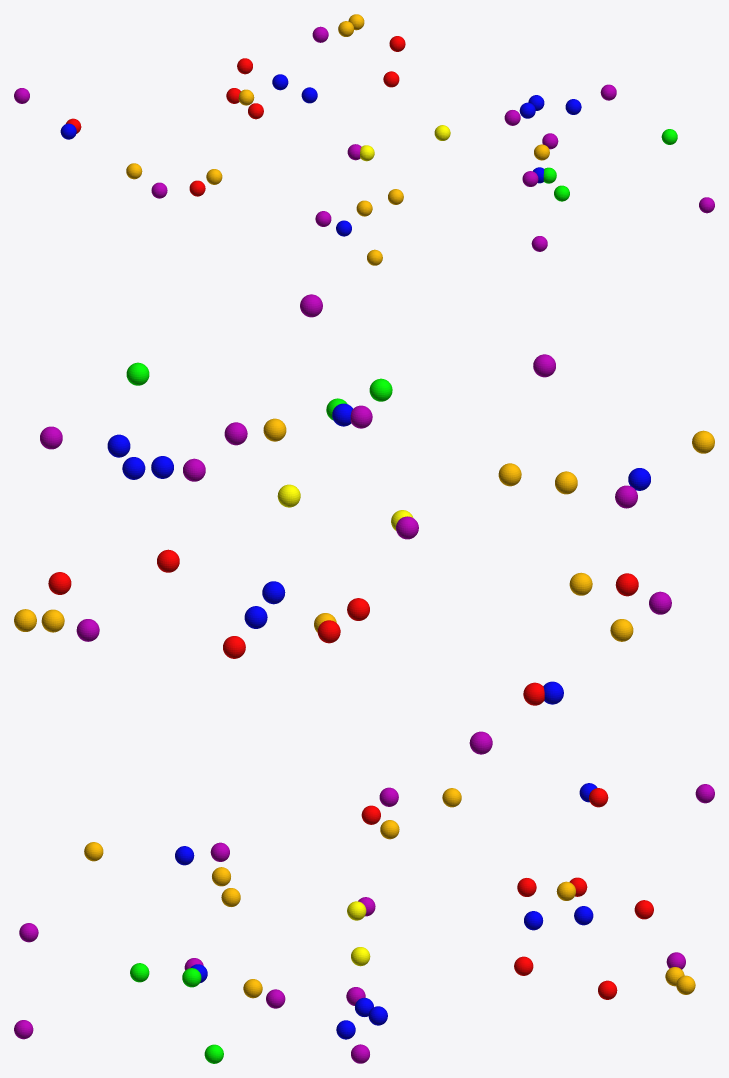
The model's file is sugar_round.glb.
The picture shows the model from 3 angles, top to bottom: view 1: azimuth 30°, elevation 25°; view 2: azimuth 150°, elevation 25°; view 3: azimuth 270°, elevation 25°; orthographic projection. The views are drawn at different scales.
Size of the model in its own units: 1.98 by 0.06 by 2.17.
